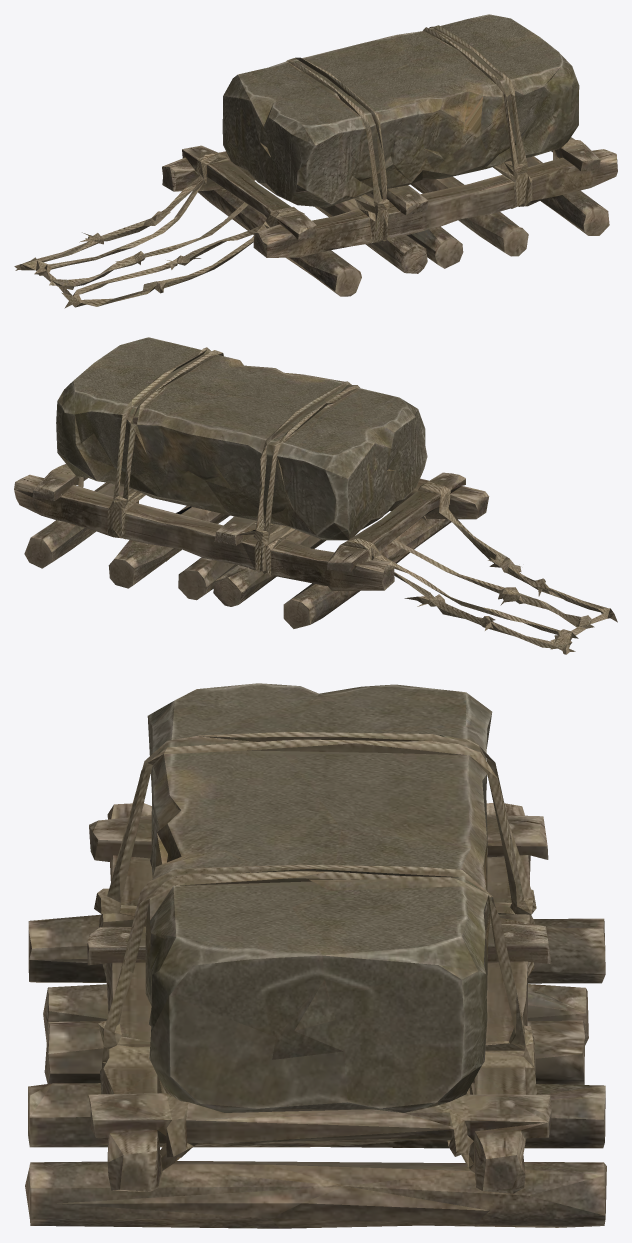
The model's file is stone-sledge.glb.
3 renders of one model, top to bottom at view 1: azimuth 30°, elevation 25°; view 2: azimuth 150°, elevation 25°; view 3: azimuth 270°, elevation 25°, orthographic. The views are drawn at different scales.
Parts seen in each view (by area): view 1: output_unwrapped; view 2: output_unwrapped; view 3: output_unwrapped.
Part boxes in pixels (x1=…): output_unwrapped: x1=14, y1=14, x2=617, y2=308; output_unwrapped: x1=14, y1=337, x2=617, y2=654; output_unwrapped: x1=25, y1=683, x2=606, y2=1228.
Bounding box in the file's own units: 3 × 0.8295 × 1.45.
1 material, 1 textured.
